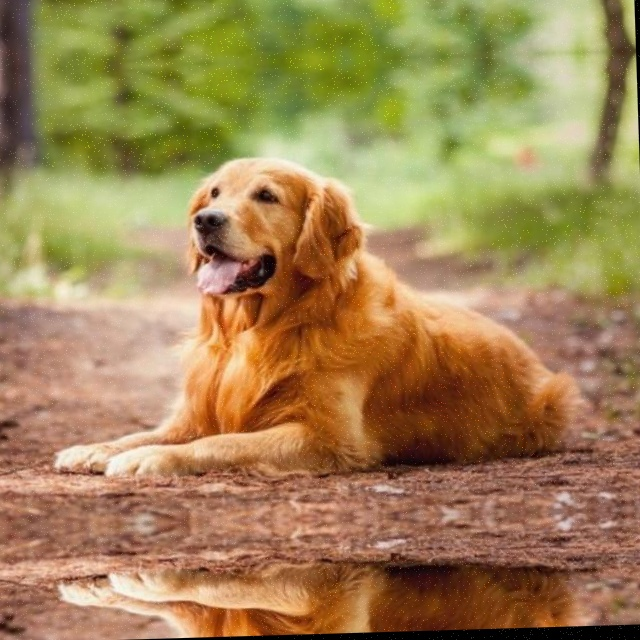dog: (26, 148, 590, 493), (40, 542, 596, 640)
